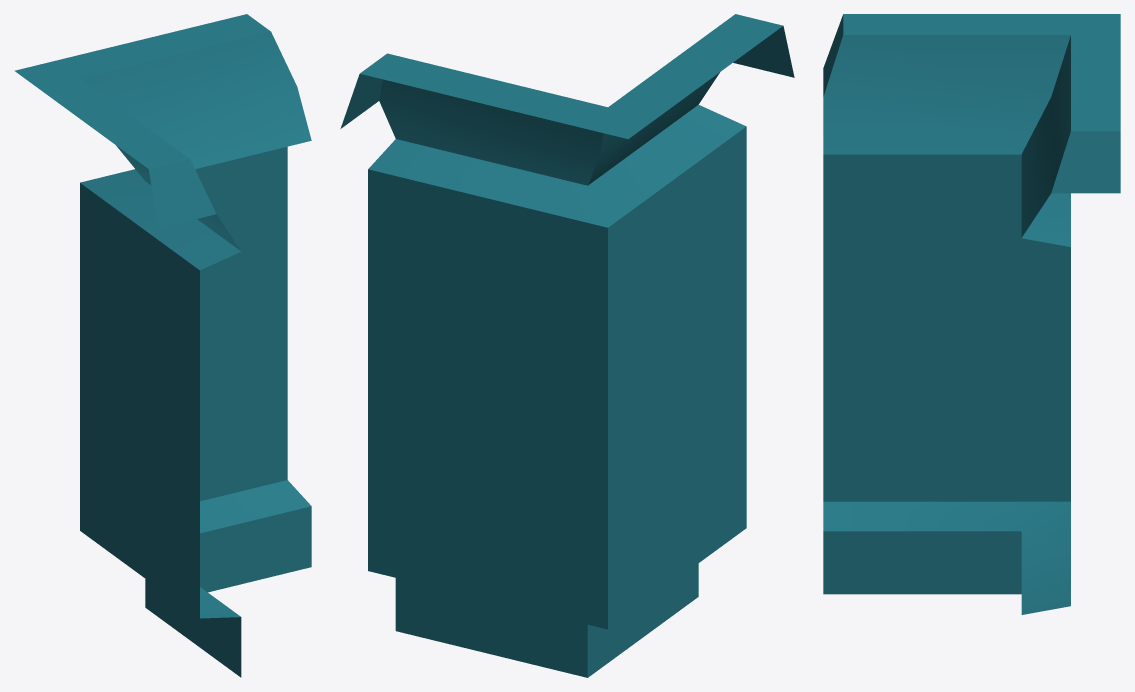
The model's file is corner.FBX.
The picture shows the model from 3 angles, left to right: view 1: azimuth 30°, elevation 25°; view 2: azimuth 150°, elevation 25°; view 3: azimuth 270°, elevation 25°; orthographic projection. The views are drawn at different scales.
Visible parts, largest first — view 1: corner_master; view 2: corner_master; view 3: corner_master.
Boxes of the visible parts, <box> form: corner_master: <box>14,14,311,677</box>; corner_master: <box>340,14,794,677</box>; corner_master: <box>823,14,1120,614</box>.
Bounding box in the file's own units: 3 × 6 × 3.
